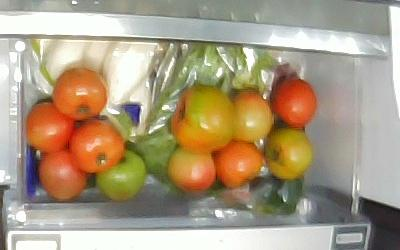tomato: (172, 85, 233, 152), (69, 119, 124, 173), (53, 67, 108, 120), (95, 148, 145, 201), (37, 148, 86, 202), (265, 127, 312, 179), (270, 77, 316, 128), (27, 100, 71, 151), (215, 142, 262, 189), (233, 89, 273, 142), (169, 147, 214, 191)
